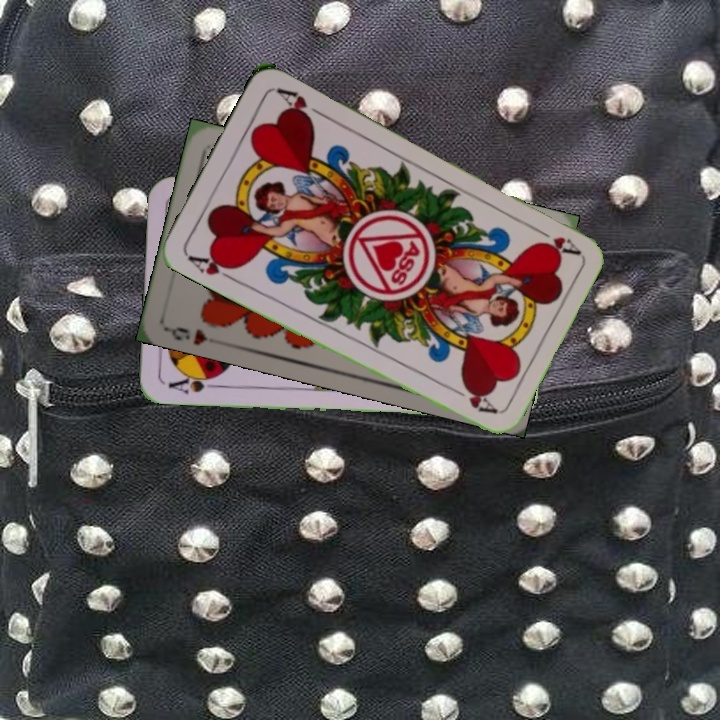H9: (163, 322, 210, 347)
HA: (526, 221, 581, 258), (184, 249, 240, 284)
SA: (164, 369, 223, 397)
